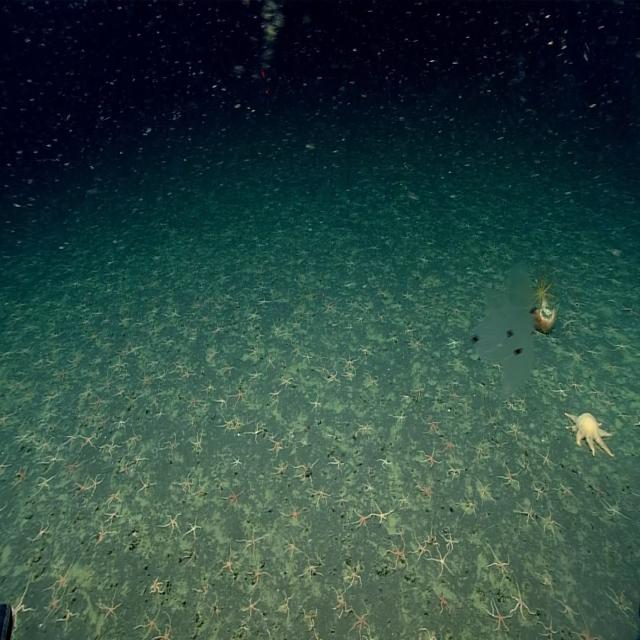brittle-stars: (11, 585, 34, 626), (487, 598, 511, 632), (239, 526, 264, 558), (512, 584, 534, 620), (348, 606, 371, 640), (608, 588, 634, 618), (99, 592, 122, 625), (50, 562, 75, 592), (136, 610, 160, 639), (488, 548, 511, 578), (386, 539, 408, 570), (558, 593, 580, 621), (573, 618, 601, 640), (432, 549, 453, 577), (218, 547, 236, 579), (333, 586, 352, 616), (281, 503, 303, 528), (516, 502, 538, 526), (222, 486, 244, 510), (157, 611, 175, 640), (540, 510, 560, 536), (302, 556, 322, 582), (345, 564, 364, 590), (412, 534, 431, 560), (240, 596, 262, 618), (372, 502, 394, 524), (294, 460, 316, 482), (161, 513, 181, 537), (250, 562, 270, 586), (282, 533, 301, 558), (442, 434, 460, 460), (477, 478, 495, 504), (499, 465, 520, 487), (602, 499, 624, 520), (42, 449, 64, 470), (92, 524, 113, 546), (31, 519, 52, 541), (538, 618, 558, 640), (138, 473, 156, 497), (60, 604, 78, 628), (45, 591, 62, 616), (311, 487, 331, 508), (420, 447, 440, 468), (459, 494, 478, 516), (417, 478, 434, 502), (36, 474, 56, 494), (206, 594, 220, 622), (437, 590, 453, 614), (352, 509, 370, 530), (442, 530, 460, 551), (184, 518, 201, 540), (277, 595, 293, 618), (101, 438, 119, 458), (506, 420, 524, 440), (302, 605, 318, 627), (105, 489, 123, 508), (537, 449, 554, 469), (163, 436, 180, 456), (90, 475, 106, 496), (247, 421, 263, 442), (269, 437, 285, 458), (178, 474, 194, 495), (13, 464, 28, 486), (612, 340, 634, 355), (538, 568, 553, 590), (356, 420, 374, 438), (104, 508, 122, 526), (328, 453, 345, 472), (233, 387, 250, 406), (184, 391, 201, 410), (37, 435, 54, 454), (127, 430, 143, 450), (418, 627, 442, 640), (66, 460, 83, 478), (73, 478, 89, 497), (194, 482, 209, 502), (272, 460, 289, 477), (567, 347, 584, 364), (424, 418, 441, 435), (557, 483, 575, 499), (180, 550, 200, 564), (425, 528, 439, 548), (476, 439, 488, 462), (190, 432, 203, 453), (568, 377, 584, 394), (132, 452, 148, 469), (194, 583, 210, 600), (448, 462, 463, 480), (150, 577, 164, 596), (0, 410, 13, 430), (391, 410, 407, 426), (324, 370, 339, 387), (100, 375, 115, 392), (129, 340, 143, 358), (532, 482, 546, 500), (491, 436, 505, 454), (450, 384, 463, 403), (487, 411, 500, 430), (310, 391, 322, 411), (586, 344, 602, 359), (83, 435, 98, 451), (344, 352, 359, 368), (590, 384, 605, 400), (449, 356, 464, 372), (42, 390, 58, 405), (65, 431, 79, 448), (114, 414, 128, 431), (206, 344, 220, 361), (518, 460, 532, 477), (602, 361, 620, 374), (0, 454, 10, 477), (219, 360, 234, 375), (364, 374, 378, 390), (92, 393, 106, 409), (379, 454, 393, 470), (219, 414, 232, 431), (266, 351, 278, 369), (554, 383, 568, 398), (248, 365, 262, 380), (412, 337, 426, 352), (114, 358, 128, 373), (14, 430, 29, 444), (215, 394, 228, 410), (621, 302, 637, 315), (413, 381, 426, 397), (398, 490, 409, 508), (281, 376, 295, 390), (448, 337, 462, 351), (344, 369, 358, 383), (179, 366, 193, 380), (593, 484, 606, 499), (140, 372, 152, 388), (504, 396, 516, 412), (169, 306, 182, 320), (248, 309, 261, 323), (118, 314, 131, 328), (416, 300, 429, 314), (154, 370, 168, 383), (290, 316, 302, 331), (491, 358, 503, 373), (97, 414, 109, 429), (516, 392, 528, 407), (273, 320, 284, 336), (301, 349, 312, 365), (212, 323, 225, 336), (88, 329, 101, 342), (608, 327, 621, 340), (248, 346, 260, 360), (213, 298, 225, 312), (0, 497, 7, 521), (119, 461, 130, 476), (186, 413, 197, 428), (478, 379, 489, 394), (232, 455, 244, 468), (257, 295, 270, 307), (323, 302, 335, 315), (360, 345, 372, 358), (344, 278, 356, 291), (603, 396, 616, 408), (204, 382, 216, 395), (153, 408, 165, 421), (562, 328, 576, 339), (162, 335, 176, 346), (315, 349, 325, 364), (270, 384, 282, 396), (450, 303, 462, 315), (303, 308, 315, 320), (494, 340, 506, 352), (562, 317, 574, 329), (149, 305, 160, 318), (400, 391, 411, 404), (364, 481, 374, 495), (338, 492, 348, 506), (235, 417, 244, 432), (115, 386, 126, 398), (405, 324, 416, 336), (192, 300, 202, 313), (308, 632, 324, 640), (255, 281, 266, 292), (79, 388, 90, 399), (378, 312, 388, 324), (361, 303, 371, 315), (402, 290, 412, 302), (283, 326, 293, 338), (355, 314, 365, 325), (348, 300, 358, 311), (201, 313, 211, 324), (518, 405, 527, 416), (635, 413, 640, 431), (630, 492, 640, 499)
